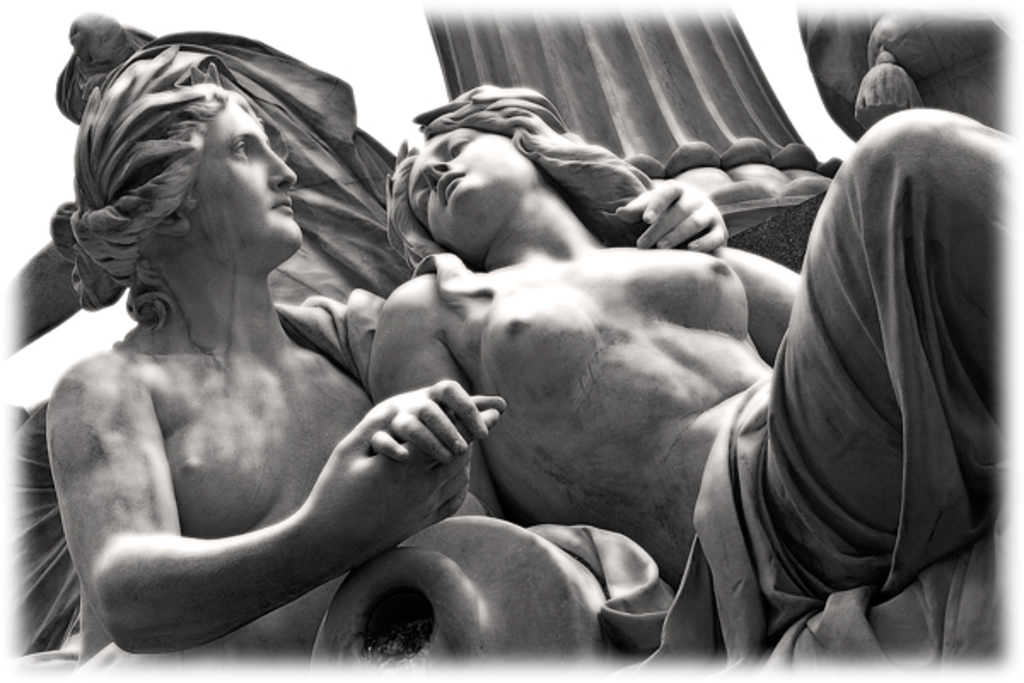Human-face: (189, 94, 302, 249), (401, 123, 532, 253)
